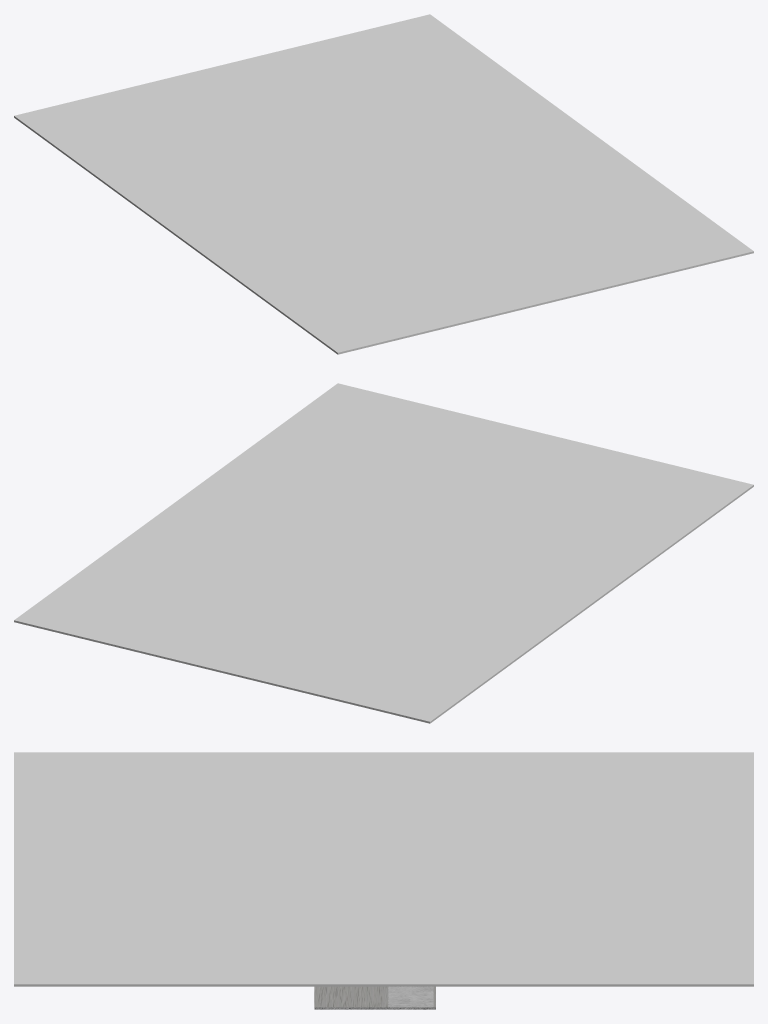
File: room.gltf
3 views of the same model, one above another, from view 1: azimuth 30°, elevation 25°; view 2: azimuth 150°, elevation 25°; view 3: azimuth 270°, elevation 25° (orthographic). The views are drawn at different scales.
Visible parts, largest first — view 1: Ceiling; view 2: Ceiling; view 3: Ceiling, Long Wall, Floor.
Part boxes in pixels (bbox=[...]): Ceiling: bbox=[14, 14, 753, 354]; Ceiling: bbox=[14, 383, 753, 723]; Ceiling: bbox=[14, 752, 753, 986]; Long Wall: bbox=[314, 986, 388, 1007]; Floor: bbox=[314, 986, 435, 1009].
Bounding box in the file's own units: 23 × 4.2 × 31.
Materials: 4 (4 with a texture image).
